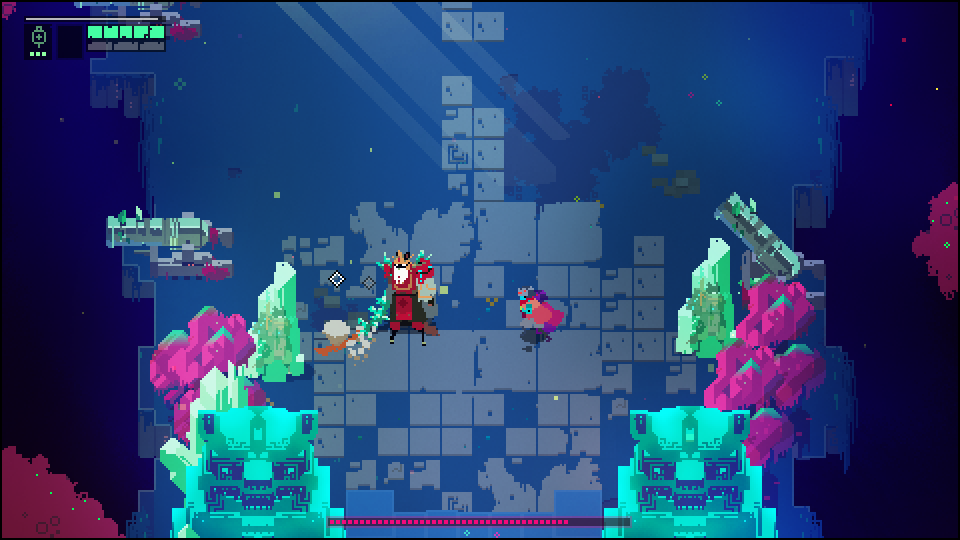hanged_man: (335, 246, 443, 357)
player: (510, 282, 560, 347)
